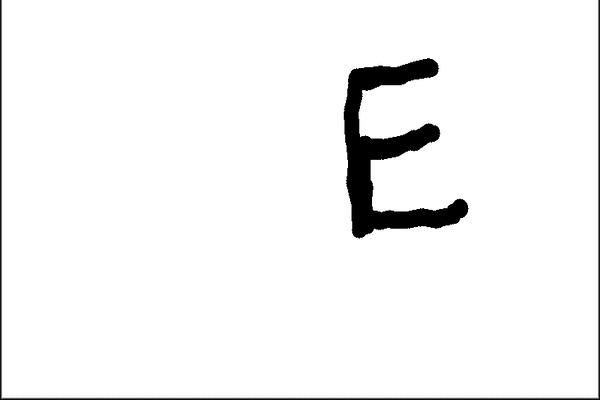E: (337, 51, 474, 243)
